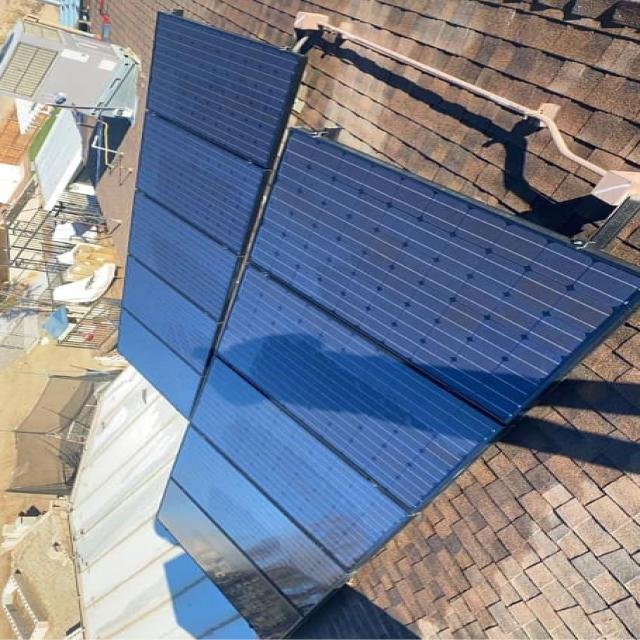clean-solar-panel: (121, 14, 638, 638)
